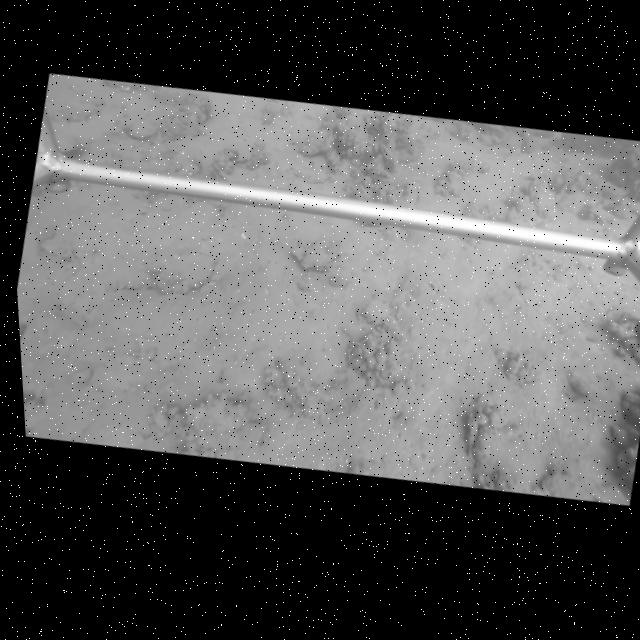Oyster-Closed: (284, 237, 344, 273), (298, 128, 331, 157)
Oyster-Indeterminate: (151, 248, 218, 295), (128, 121, 161, 140)
Oyster-Open: (377, 137, 398, 167)
